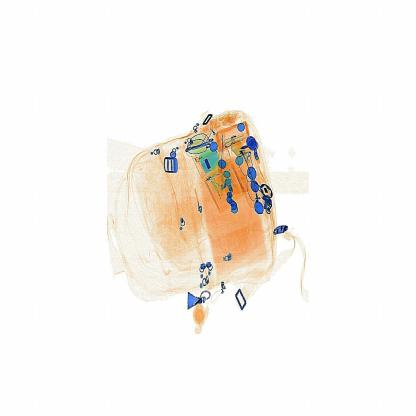pliers: (216, 121, 236, 202)
